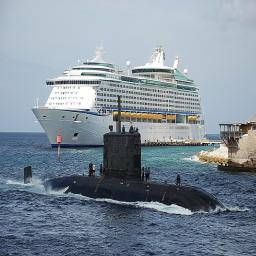submarine: (23, 131, 230, 213)
